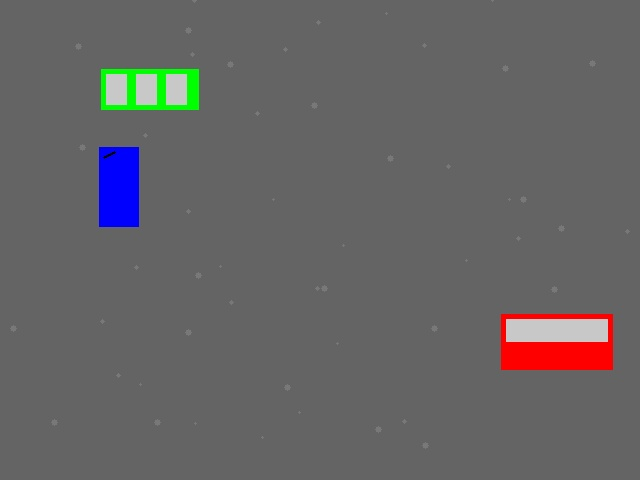bus: (101, 69, 198, 109)
car: (501, 314, 612, 369)
motorcycle: (99, 147, 138, 226)
